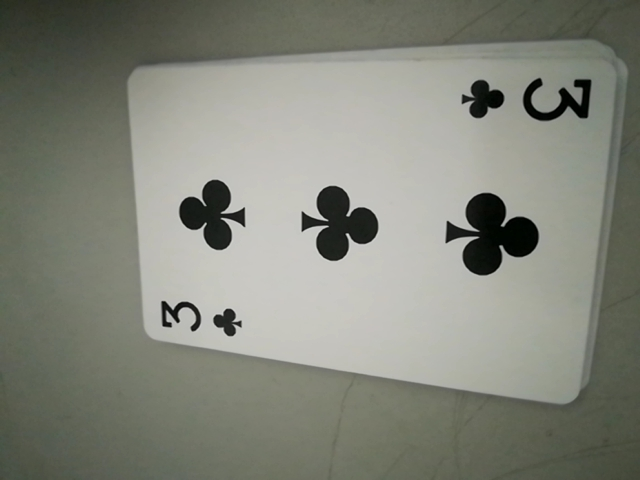mh 3: (460, 69, 591, 130), (154, 293, 252, 345)
